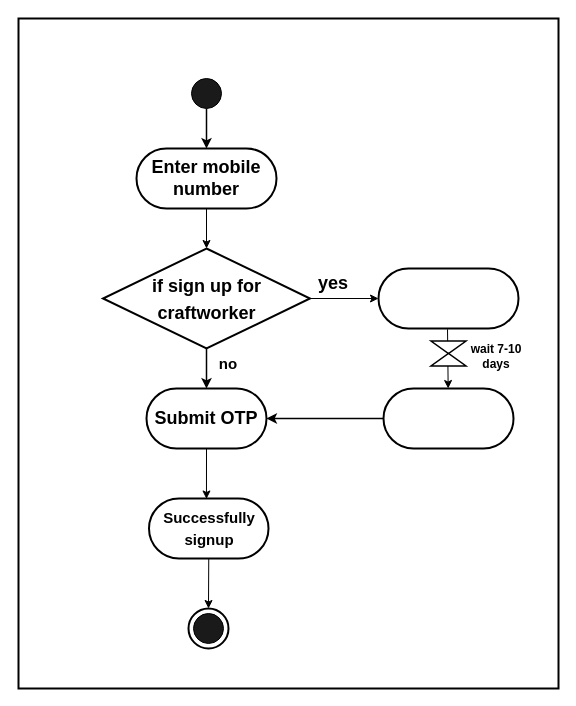
Some shapes in this 576 by 706 pixel diagram are drawn without their labels. Here are the shapes that lost their labels. From the top down, the centre of each, then its label:
the point at 448,298: Additional Craftwork photos
the point at 448,418: Admin Approval
